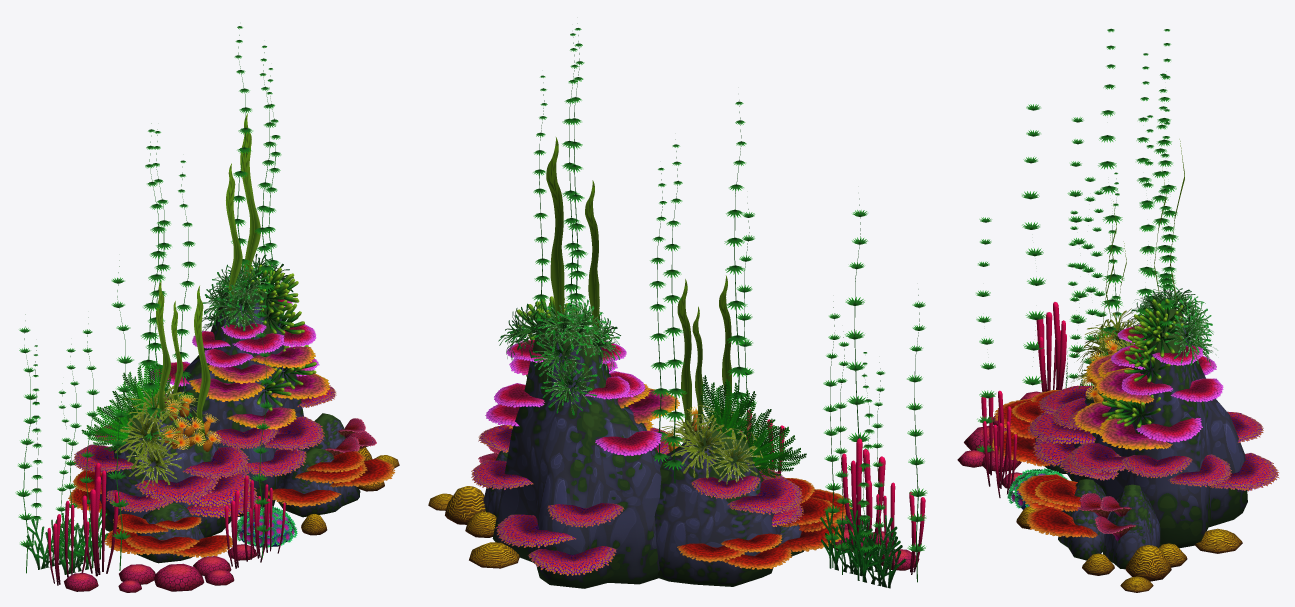
The model's file is CoralSet_14.FBX.
The picture shows the model from 3 angles, left to right: view 1: azimuth 30°, elevation 25°; view 2: azimuth 150°, elevation 25°; view 3: azimuth 270°, elevation 25°; orthographic projection. The views are drawn at different scales.
Parts seen in each view (by area): view 1: Plane004, Plane145, Plane326, Plane122, Plane301, CoralSet_14, Line025, Plane163, Sphere009, Plane172, Line188, Plane288 (+5 smaller); view 2: Plane004, Plane326, Plane145, Plane301, CoralSet_14, Plane122, Plane288, Plane172, Line025, Line175, Plane320, Plane163 (+3 smaller); view 3: Plane004, Plane145, Plane326, Plane122, Line025, Plane301, Line175, Plane163, Plane172, Line188, CoralSet_14, Sphere009 (+3 smaller).
Part boxes in pixels (x1,y1,x2,y2): Plane004: (99,283,360,563); Plane145: (73,384,336,518); Plane326: (15,26,281,573); Plane122: (68,451,394,557); Plane301: (109,254,293,488); CoralSet_14: (156,113,376,455); Line025: (47,463,285,585); Plane163: (189,346,330,429); Sphere009: (64,544,257,592); Plane172: (150,323,319,386); Line188: (249,264,316,411); Plane288: (81,365,171,451); Plane004: (483,322,803,588); Plane326: (532,23,927,582); Plane145: (471,424,803,575); Plane301: (498,297,779,484); CoralSet_14: (478,137,731,463); Plane122: (677,478,852,569); Plane288: (700,375,806,478); Plane172: (485,341,662,456); Line025: (740,409,925,574); Line175: (428,486,519,568); Plane320: (820,511,905,588); Plane163: (506,384,679,430); Plane004: (1035,308,1247,569); Plane145: (1027,385,1279,491); Plane326: (976,28,1178,452); Plane122: (989,390,1097,537); Line025: (981,302,1066,497); Plane301: (1071,285,1217,393); Line175: (1016,506,1242,592); Plane163: (1073,354,1172,450); Plane172: (1110,325,1223,442); Line188: (1101,299,1183,427); CoralSet_14: (1077,139,1184,540); Sphere009: (957,391,1041,489).
Bounding box in the file's own units: 33552 × 36868 × 21486.
